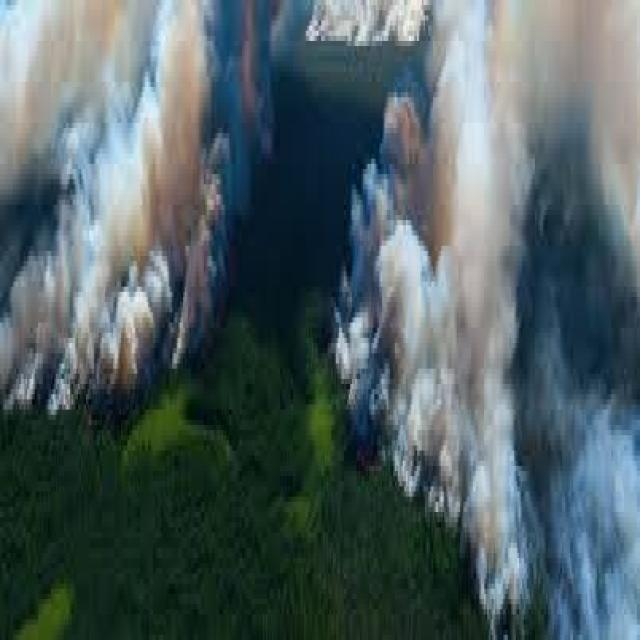Smoke: (0, 0, 212, 410), (332, 78, 522, 490), (449, 0, 549, 640), (0, 0, 263, 239)
